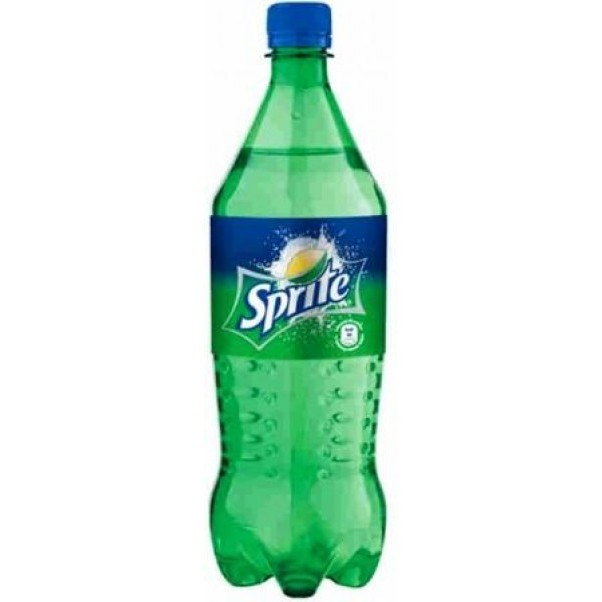sprite: (239, 258, 349, 336), (239, 258, 349, 334)
